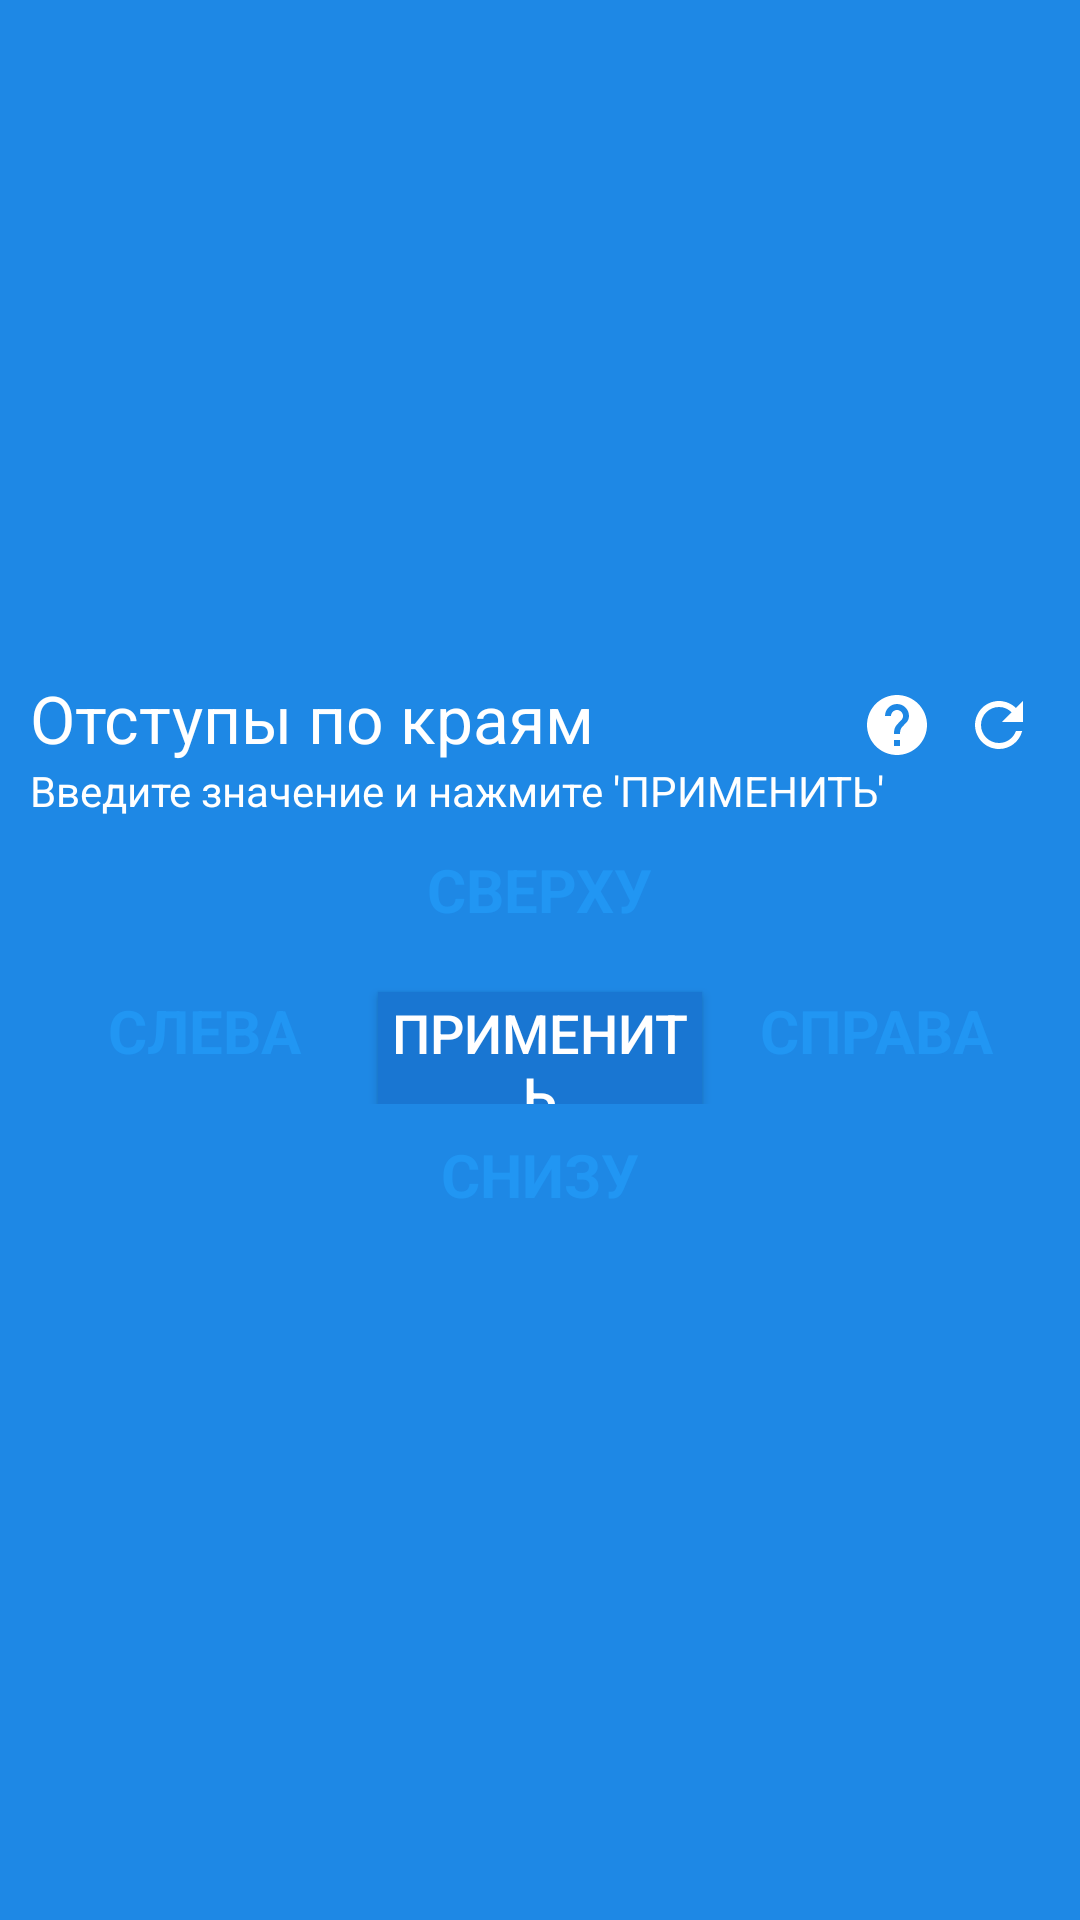

Icons on this 1080px×1920px Android screen, each with its box as [x1, y1, x2, y2]:
help: [867, 695, 927, 755]
refresh: [975, 701, 1023, 749]
